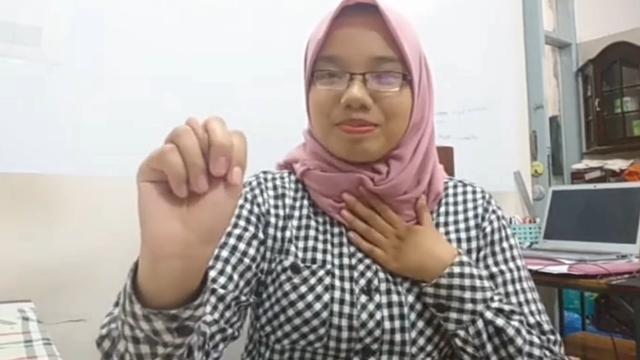N: (134, 115, 250, 244)
